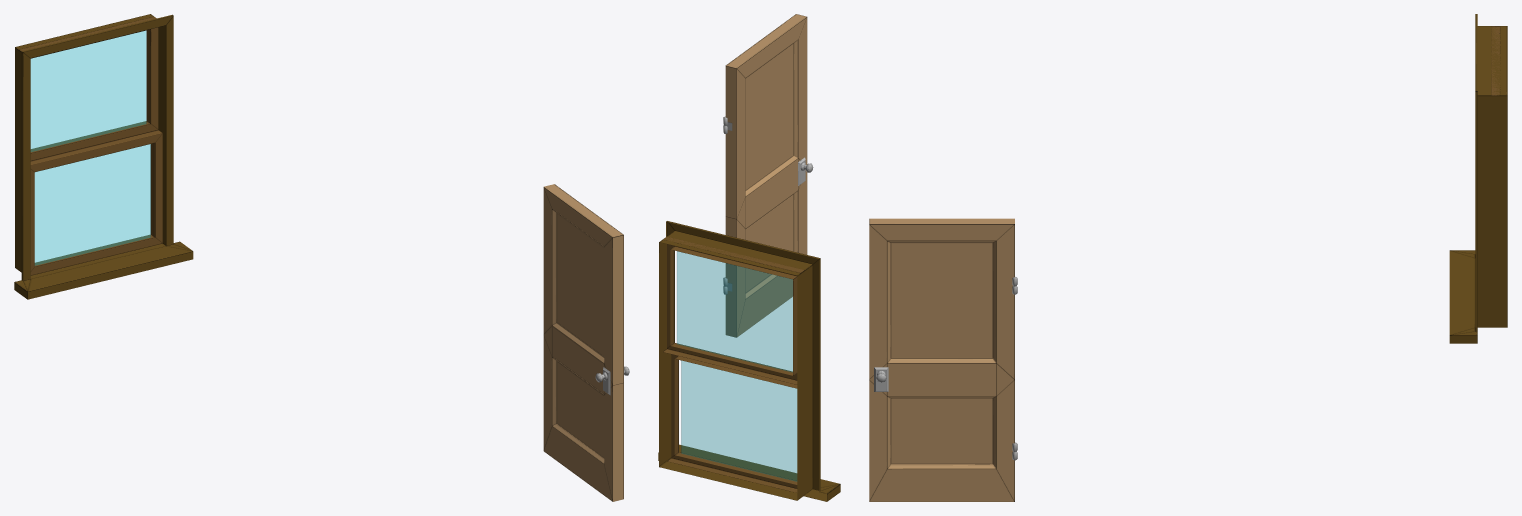
Rendered from door_and_window_for_final_scene.fbx.
3 renders of one model, left to right at view 1: azimuth 30°, elevation 25°; view 2: azimuth 150°, elevation 25°; view 3: azimuth 270°, elevation 25°, orthographic. The views are drawn at different scales.
Parts seen in each view (by area): view 1: Plane.012, Plane.019, Plane.020, Plane.017; view 2: Plane.012, Plane.020, Plane.017, Plane.019; view 3: Plane.012, Plane.017.
Part boxes in pixels (x1,y1,x2,y2): Plane.012: (543, 184, 629, 501); Plane.019: (30, 130, 162, 275); Plane.020: (19, 16, 158, 160); Plane.017: (14, 14, 193, 299); Plane.012: (723, 14, 813, 337); Plane.020: (663, 236, 804, 384); Plane.017: (658, 221, 840, 501); Plane.019: (667, 354, 797, 492); Plane.012: (869, 218, 1017, 501); Plane.017: (1449, 14, 1507, 343).
Size of the model in its own units: 2.19 by 3.49 by 1.98.
